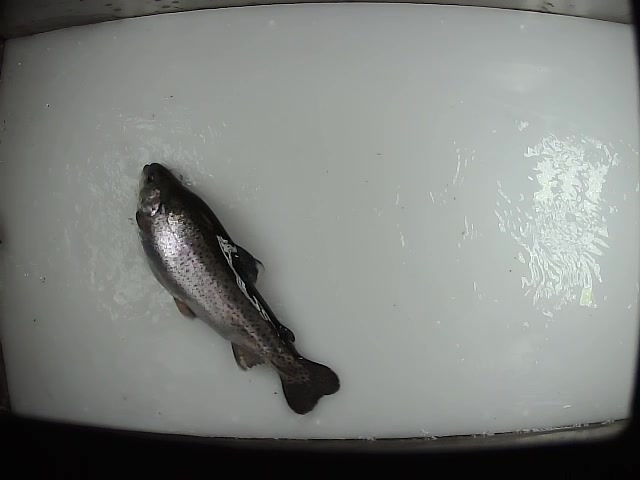fish: (133, 158, 343, 419)
